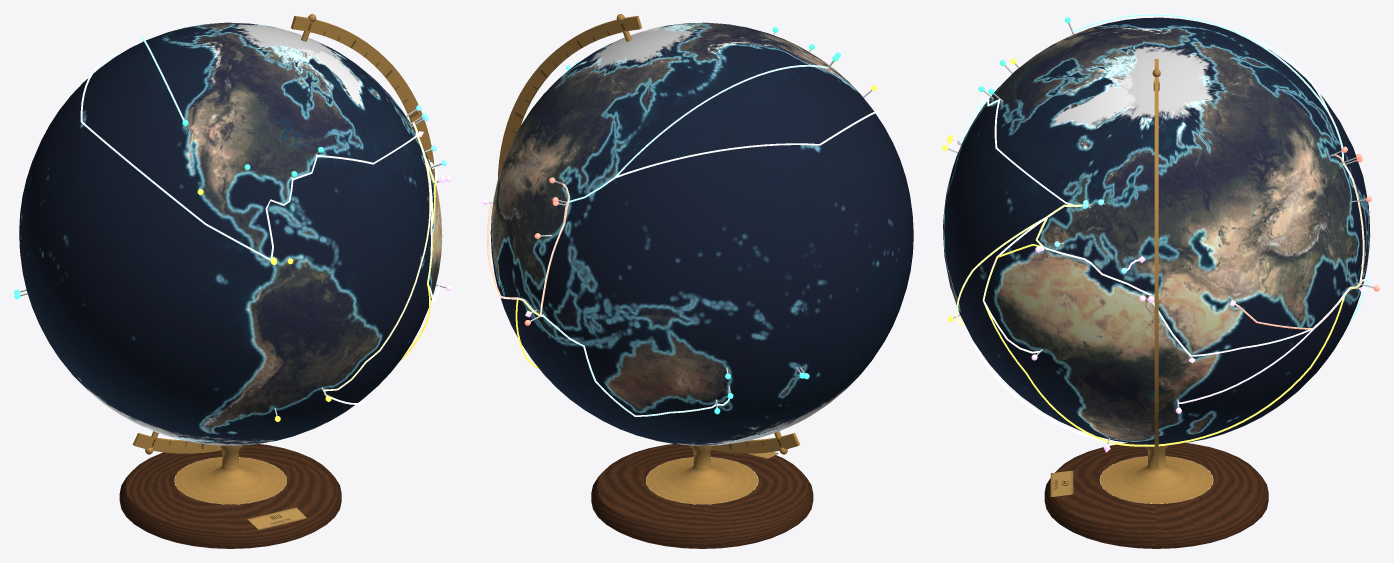
Rendered from AtlasXR_motor.glb.
3 renders of one model, left to right at view 1: azimuth 30°, elevation 25°; view 2: azimuth 150°, elevation 25°; view 3: azimuth 270°, elevation 25°, orthographic.
Parts seen in each view (by area): view 1: Globe_Sphere, Atlas_Base, Route_04, Route_07; view 2: Globe_Sphere, Atlas_Base, Route_04, Route_03, Route_09, Route_06; view 3: Globe_Sphere, Atlas_Base, Route_02, Route_01, Route_03.
Part boxes in pixels (x1=…): Globe_Sphere: x1=19, y1=22, x2=442, y2=445; Atlas_Base: x1=119, y1=14, x2=434, y2=548; Route_04: x1=80, y1=51, x2=317, y2=260; Route_07: x1=324, y1=126, x2=431, y2=391; Globe_Sphere: x1=490, y1=22, x2=913, y2=445; Atlas_Base: x1=498, y1=14, x2=813, y2=548; Route_04: x1=607, y1=110, x2=879, y2=183; Route_03: x1=567, y1=64, x2=828, y2=202; Route_09: x1=540, y1=315, x2=729, y2=416; Route_06: x1=487, y1=183, x2=569, y2=315; Globe_Sphere: x1=943, y1=17, x2=1370, y2=444; Atlas_Base: x1=1044, y1=59, x2=1268, y2=548; Route_02: x1=983, y1=204, x2=1360, y2=446; Route_01: x1=1036, y1=163, x2=1364, y2=356; Route_03: x1=1072, y1=14, x2=1344, y2=162.
Size of what is drawn, in the model's own units: 0.4748 by 0.5531 by 0.4605.
Materials: 1 (1 with a texture image).
